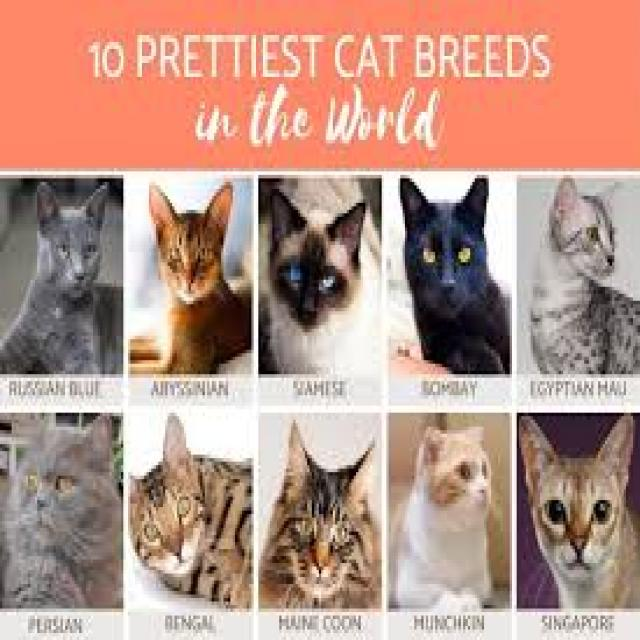Cat: (128, 414, 254, 606), (1, 179, 121, 377), (517, 414, 640, 607), (2, 415, 122, 607), (262, 416, 380, 609), (396, 174, 508, 375), (529, 178, 639, 374), (266, 183, 376, 373), (142, 182, 250, 374), (391, 417, 497, 608)
